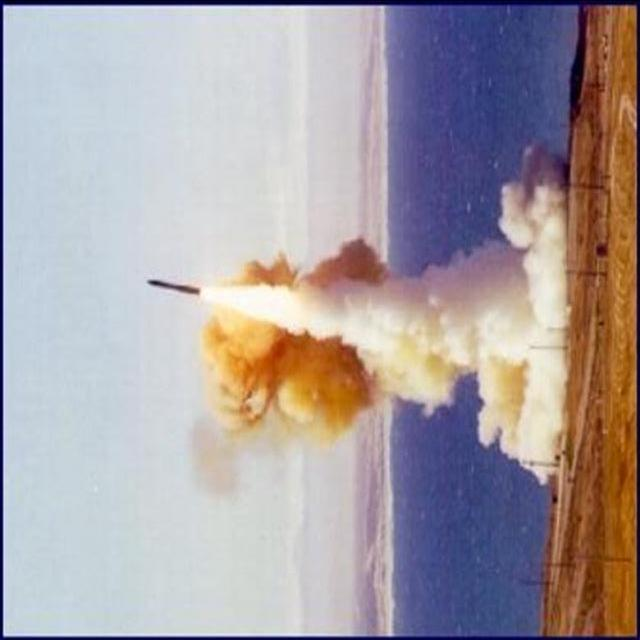missile: (140, 269, 205, 298)
